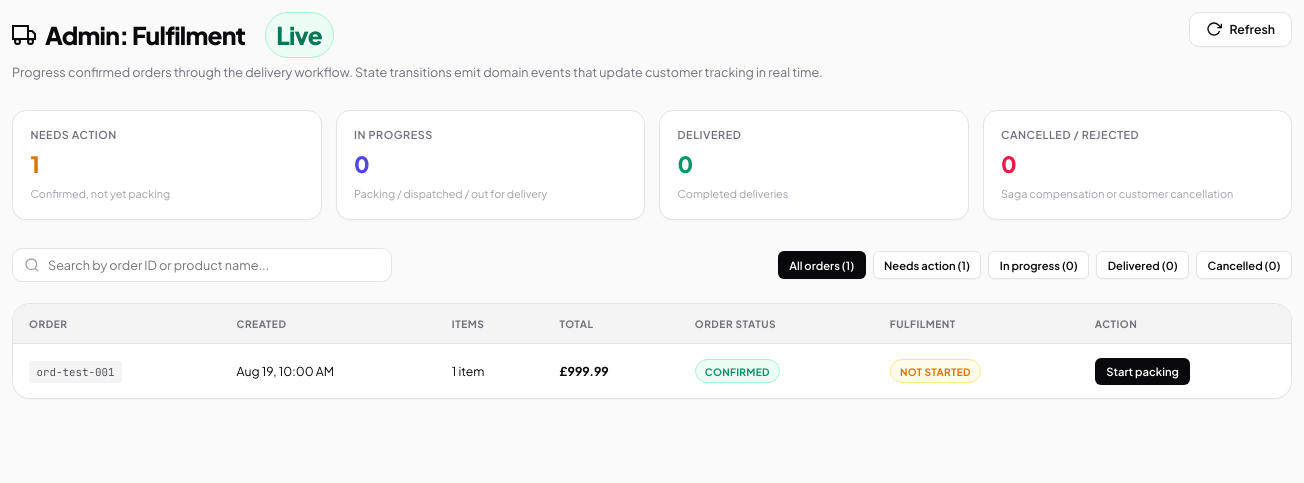
Scenario: AdminFulfilmentPage › shows conflict warning on 409 response and reloads
Click the button with aria-label "Start packing for order ord-test-001": {"x": 1143, "y": 371} [1095,358,1190,385]
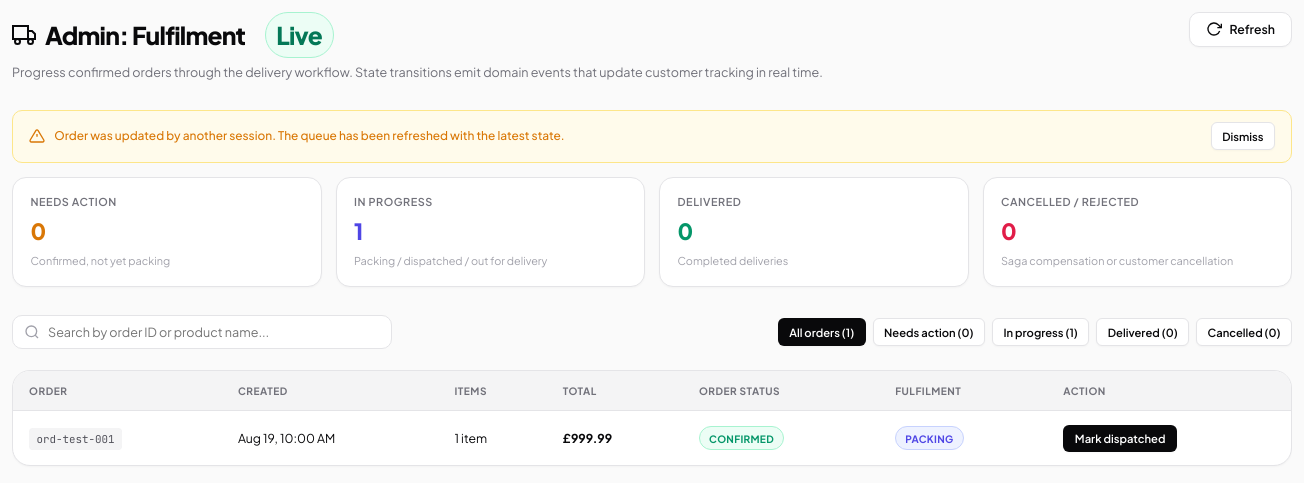
Check: the text "Order was updated by another session" is shown, box [54,128,565,143]
